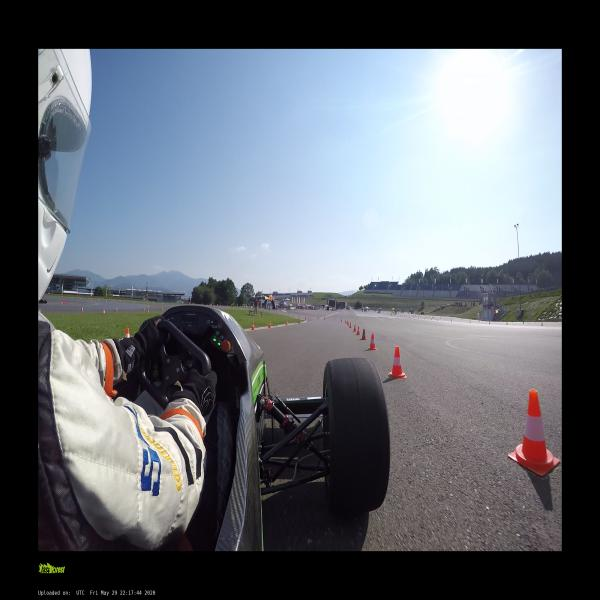orange_cone: (510, 390, 560, 474), (388, 346, 405, 378), (368, 333, 378, 351), (361, 329, 367, 340), (126, 328, 130, 338), (356, 326, 360, 335), (102, 309, 106, 315), (353, 324, 356, 331), (252, 322, 254, 330), (269, 321, 271, 328), (81, 306, 83, 312), (115, 308, 118, 312), (349, 322, 351, 328), (286, 320, 288, 325), (298, 319, 300, 324), (347, 321, 349, 325), (346, 320, 348, 324)
